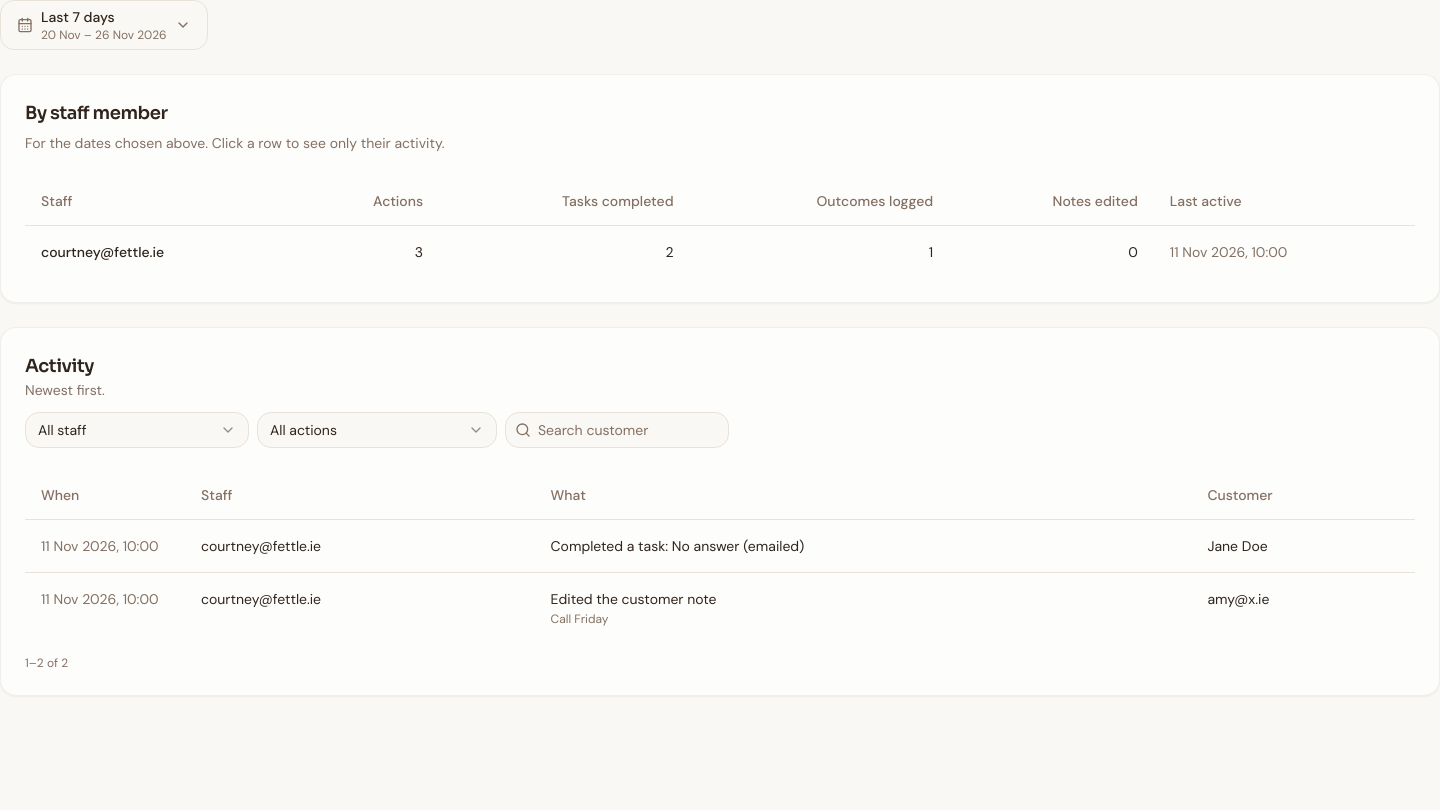
Test case: ActivityLog › shows the comparison period's counts under each staff member's
Check: the text "vs 3" is not shown
Click the button "Last 7 days 20 Nov – 26 Nov 2026" at (104,25), box [0, 0, 208, 50]
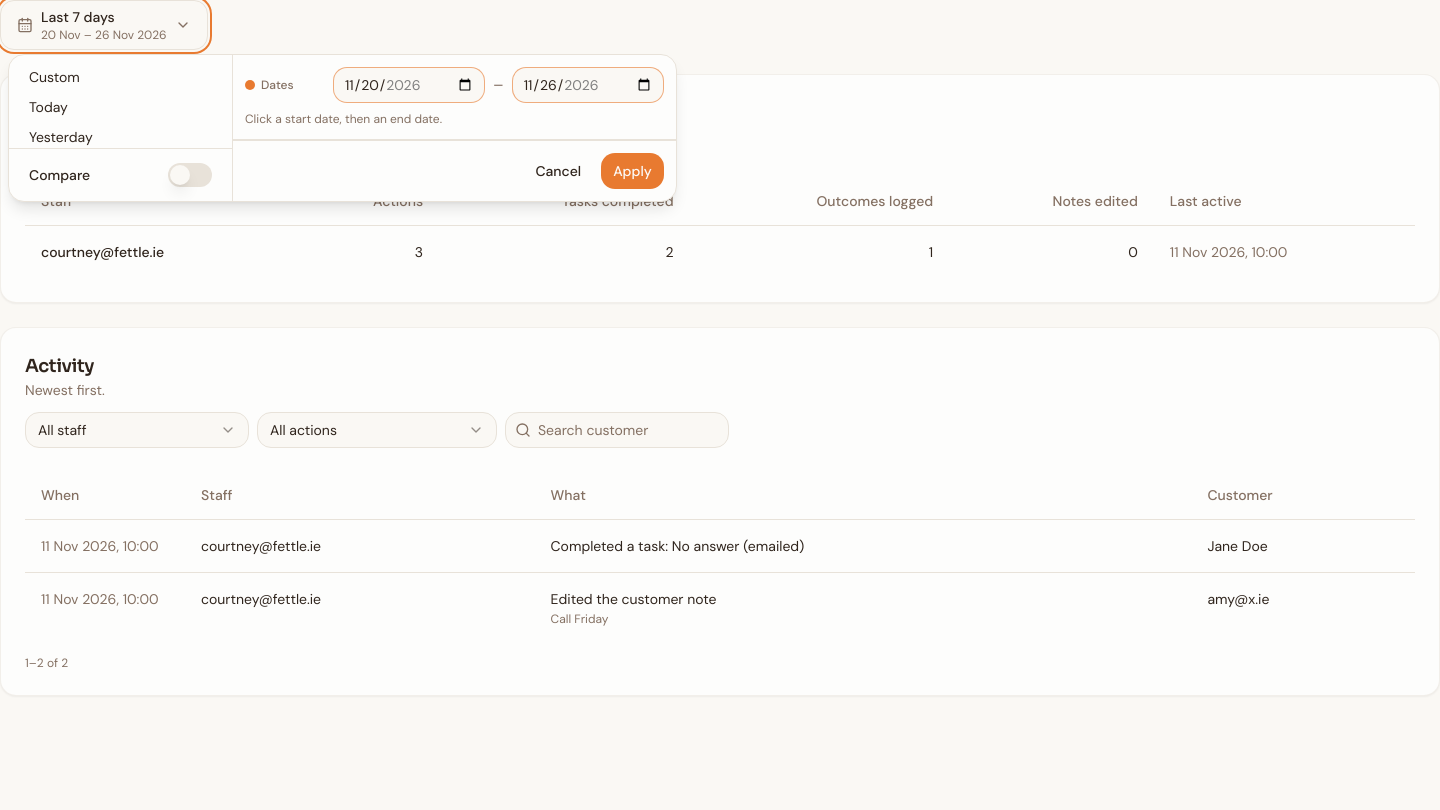
Click the switch at (190,175), box [168, 163, 212, 187]
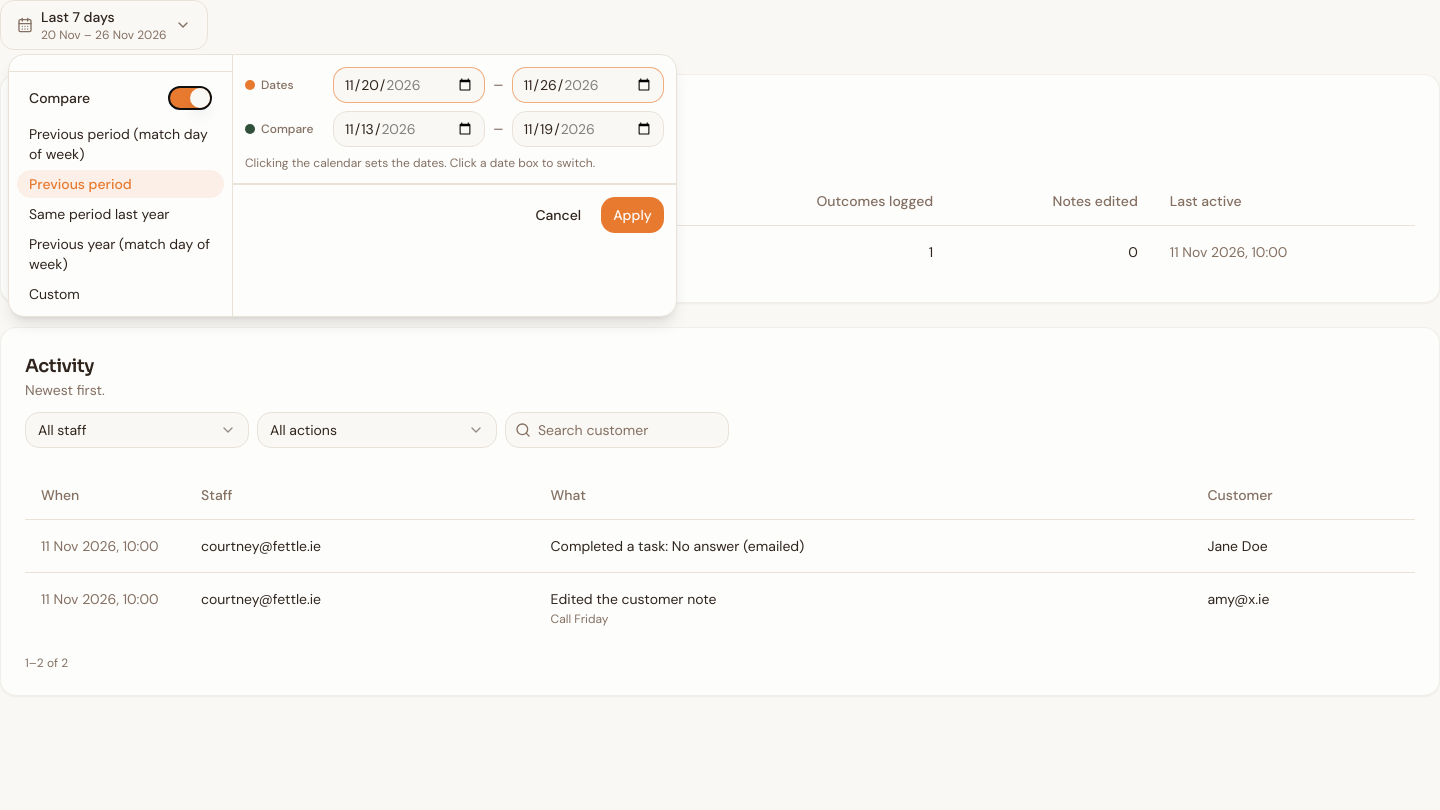
Click the button "Apply" at (632,215), box [601, 197, 664, 233]
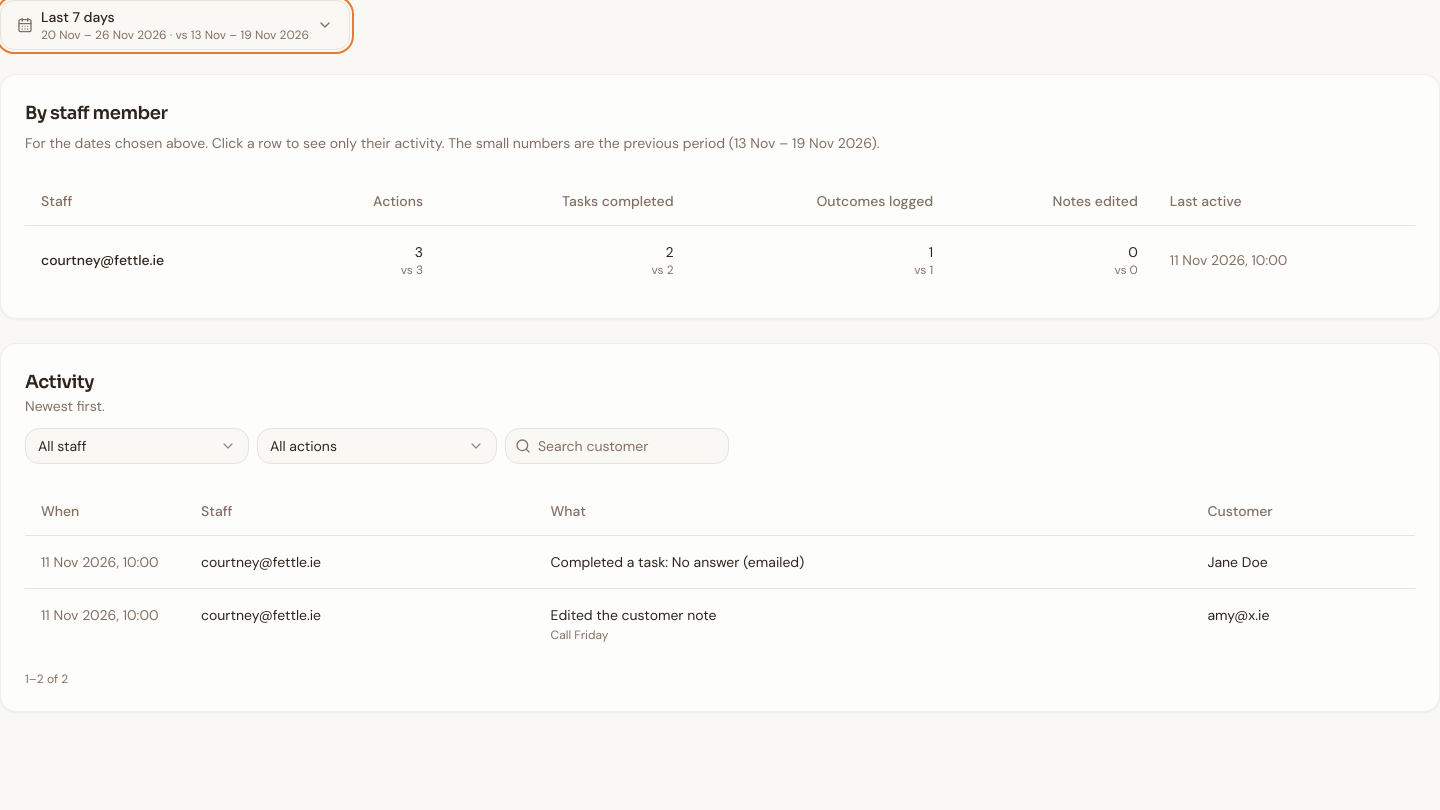
Check: the text "vs 3" is shown, box [401, 262, 423, 278]
Check: the text "vs 2" is shown, box [651, 262, 674, 278]
Check: the text "The small numbers are the previous period" is shown, box [25, 134, 880, 152]
